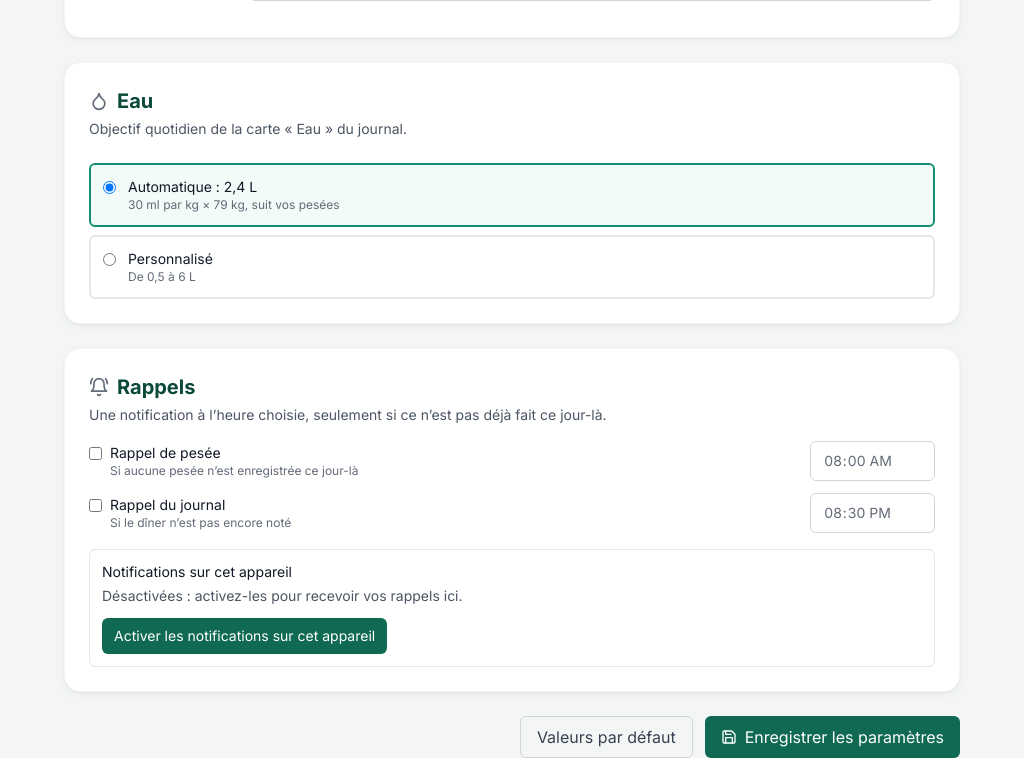
Test case: SettingsPage › programme les deux rappels par défaut à l'activation des notifications
(page scrolled)
Click the button "Activer les notifications sur cet appareil".
click(245, 636)  # box [102,618,387,654]
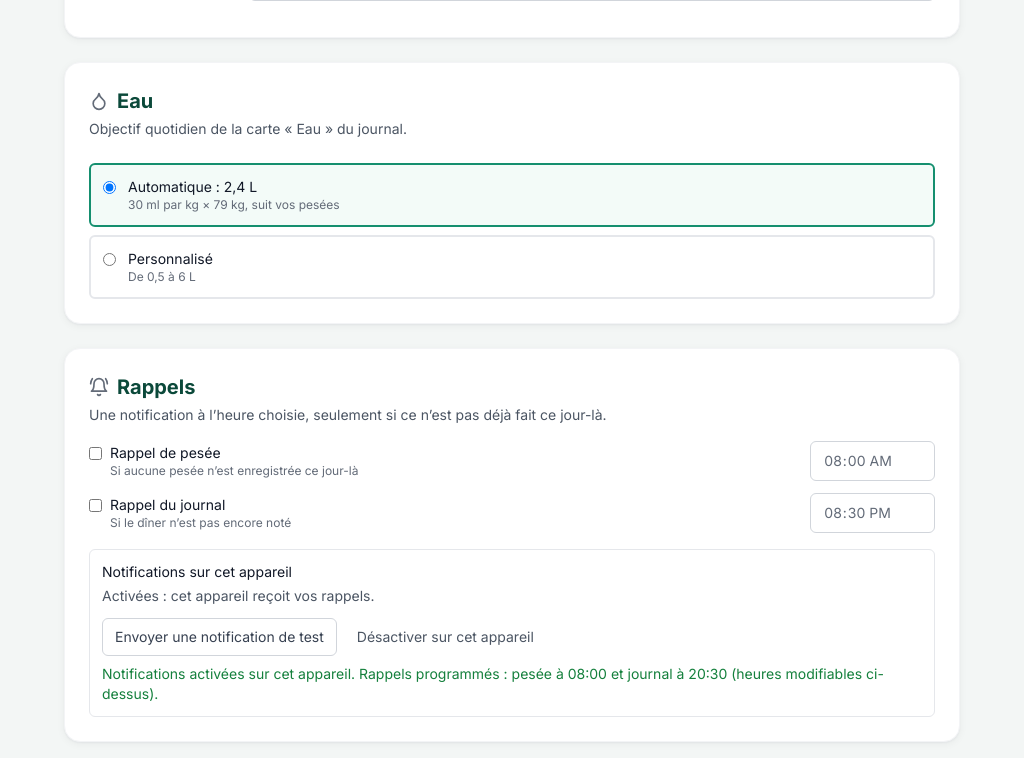
Expected: the text "Rappels programmés : pesée à 08:00 et journal à 20:30" is shown, [102,665,884,702]
